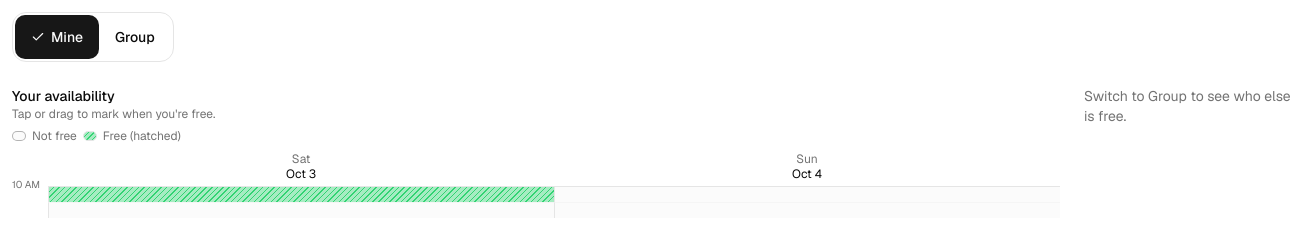
Test: AvailabilityGrid › points Mine viewers to the Group view and legends their own grid
The image size is (1304, 235).
Check: the text "Switch to Group to see who else is free." is shown, box [1084,86,1292,126]
Check: the text "Not free Free (hatched)" is shown, box [12,128,181,144]
Click the button "Group" at (135, 37), box [99,15,171,59]
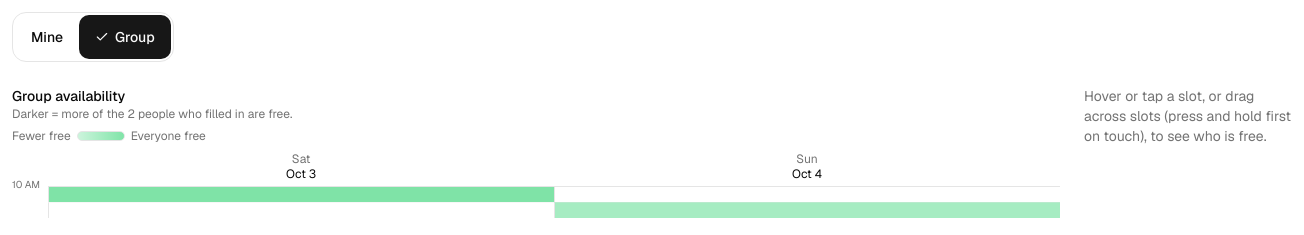
Check: the text "Switch to Group to see who else is free." is gone
